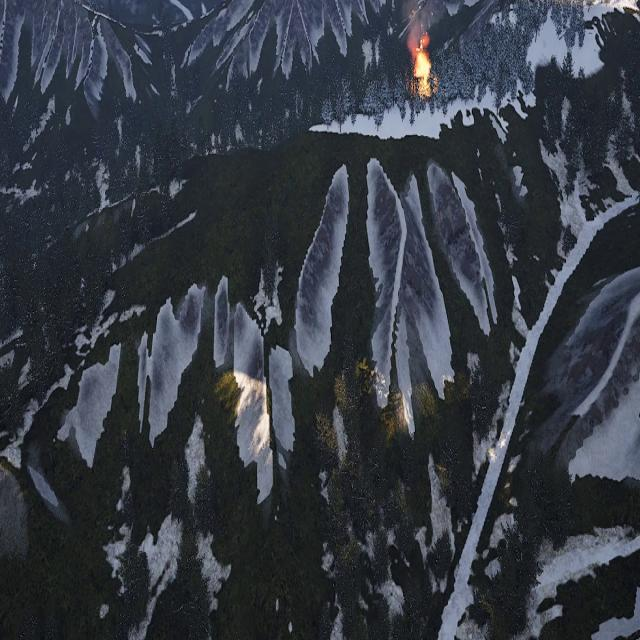fire: (413, 48, 433, 96)
smoke: (391, 0, 435, 49)
